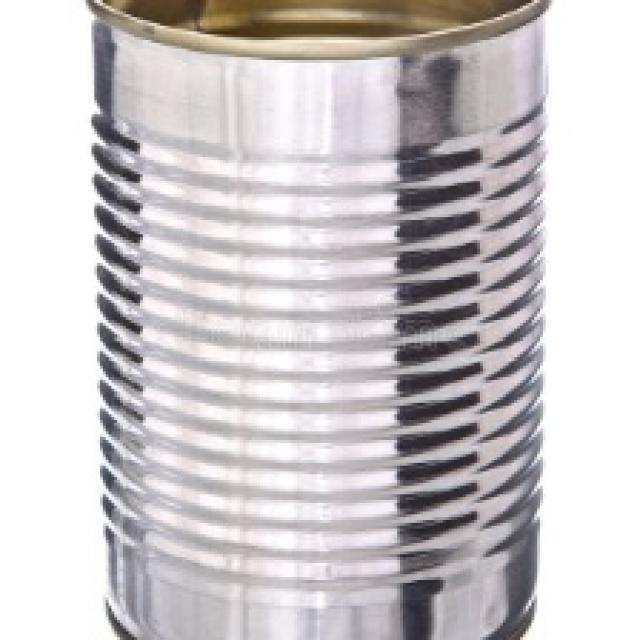heap: (79, 1, 550, 640)
